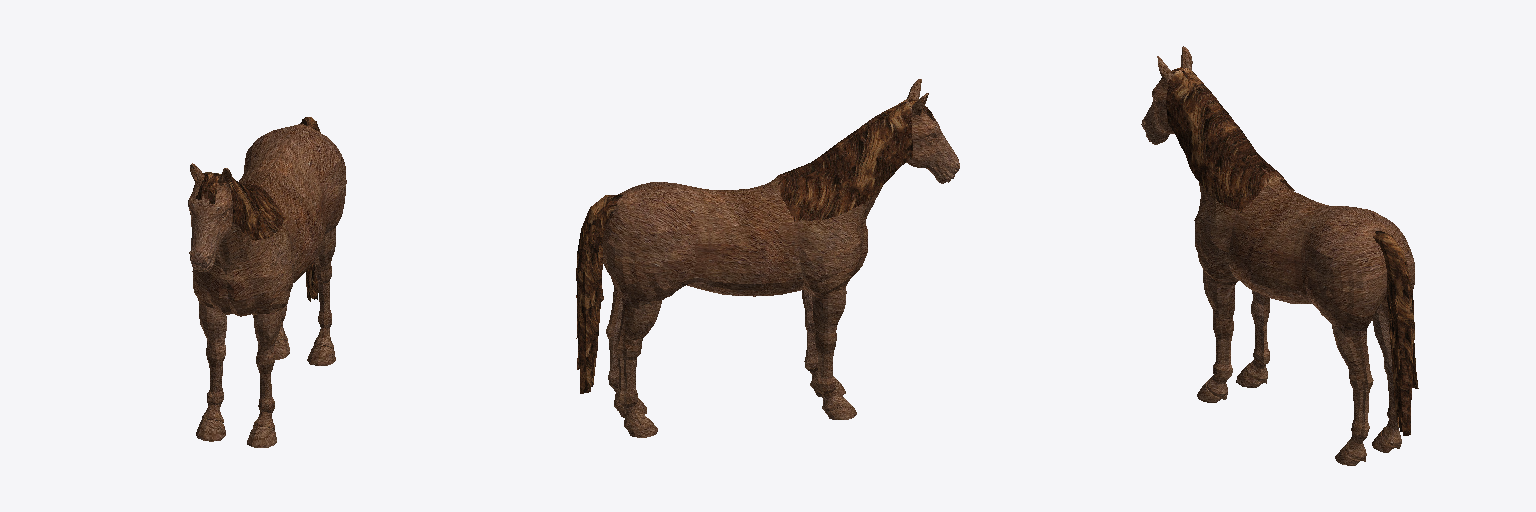
The picture shows the model from 3 angles: view 1: azimuth 30°, elevation 25°; view 2: azimuth 150°, elevation 25°; view 3: azimuth 270°, elevation 25°; orthographic projection.
Visible parts, largest first — view 1: horse_obj:horse___N, horse_obj:crest1__N; view 2: horse_obj:horse___N, horse_obj:crest3__N, horse_obj:tail____N, horse_obj:Object05N, horse_obj:Object06N; view 3: horse_obj:horse___N, horse_obj:crest1__N, horse_obj:tail____N, horse_obj:crest___N, horse_obj:crest3__N, horse_obj:crest2__N.
Boxes of the visible parts, <box> form: horse_obj:horse___N: <box>188,124,346,447</box>; horse_obj:crest1__N: <box>200,173,285,240</box>; horse_obj:horse___N: <box>602,79,959,437</box>; horse_obj:crest3__N: <box>776,103,912,221</box>; horse_obj:tail____N: <box>576,195,622,393</box>; horse_obj:Object05N: <box>588,252,603,305</box>; horse_obj:Object06N: <box>586,305,598,356</box>; horse_obj:horse___N: <box>1141,46,1414,465</box>; horse_obj:crest1__N: <box>1159,71,1272,212</box>; horse_obj:tail____N: <box>1373,231,1413,435</box>; horse_obj:crest___N: <box>1166,67,1272,212</box>; horse_obj:crest3__N: <box>1186,68,1294,190</box>; horse_obj:crest2__N: <box>1182,68,1291,189</box>.
Size of the model in its own units: 6.75 by 7.78 by 6.29.
Materials: 1 (1 with a texture image).